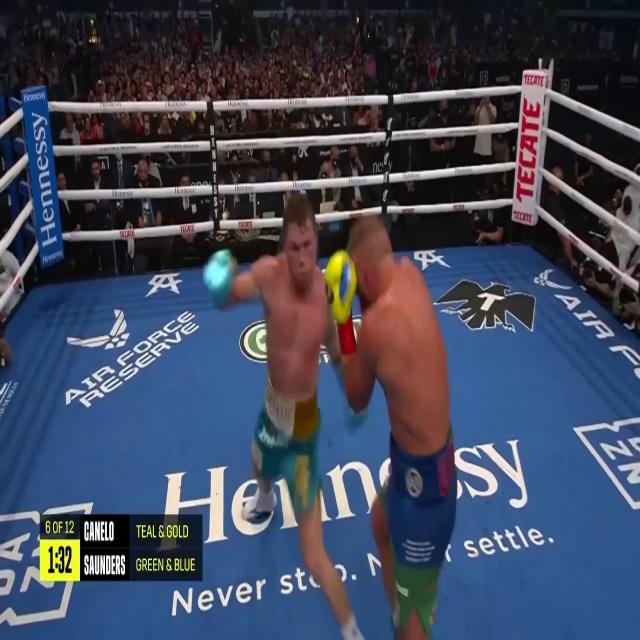boxer_1: (346, 213, 449, 453)
boxer_2: (261, 191, 325, 400)
gloves_1: (323, 252, 357, 358)
gloves_2: (331, 357, 368, 434), (199, 252, 237, 313)
